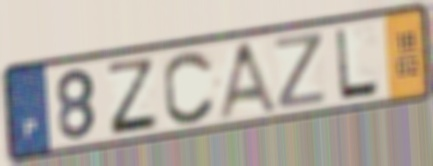8: (54, 66, 99, 143)
A: (214, 39, 281, 123)
C: (161, 48, 218, 126)
L: (332, 25, 383, 102)
Z: (272, 30, 329, 113), (106, 57, 162, 138)
